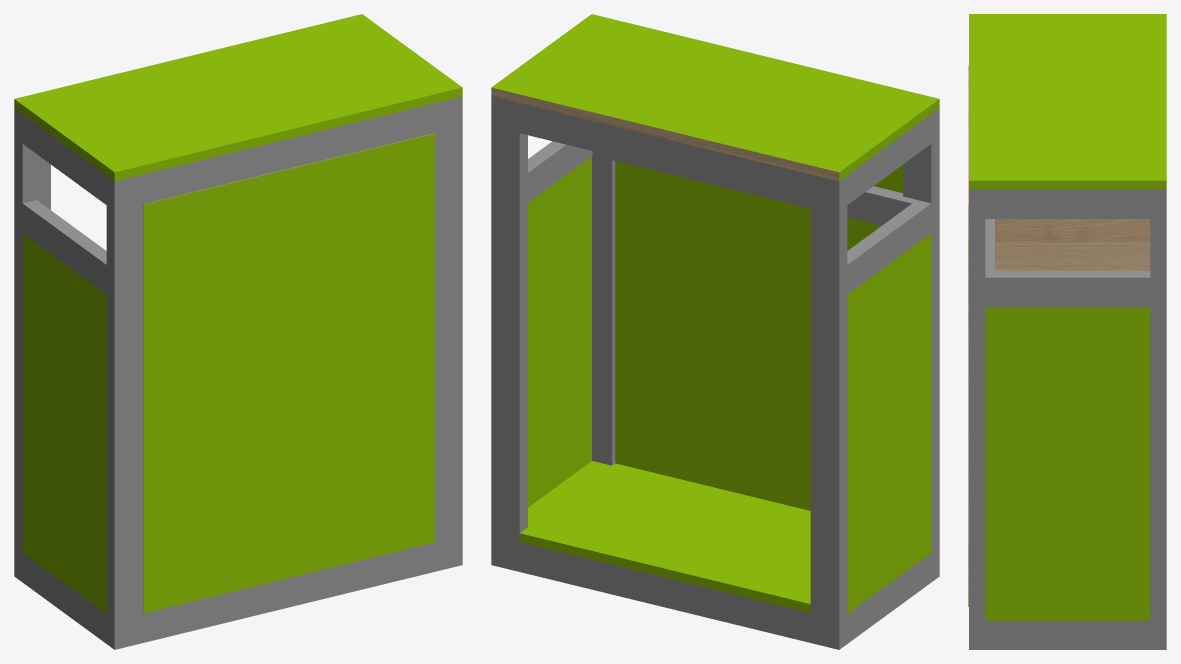
3 views of the same model, side by side, from view 1: azimuth 30°, elevation 25°; view 2: azimuth 150°, elevation 25°; view 3: azimuth 270°, elevation 25° (orthographic).
Parts seen in each view (by area): view 1: Root Node, 188466; view 2: Root Node, 188466; view 3: Root Node, 188466.
Boxes of the visible parts, bbox=[...] form: Root Node: bbox=[14, 14, 462, 613]; 188466: bbox=[14, 96, 462, 649]; Root Node: bbox=[491, 14, 939, 613]; 188466: bbox=[491, 96, 939, 649]; Root Node: bbox=[968, 14, 1166, 620]; 188466: bbox=[969, 189, 1166, 649].
Size of the model in its own units: 0.61 by 0.8 by 0.306.
135 materials, 23 textured.
